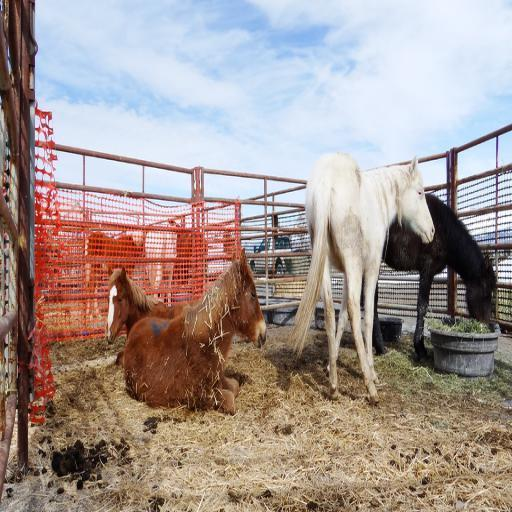horse: (284, 156, 437, 403), (124, 249, 267, 415), (362, 194, 498, 355), (106, 265, 194, 344)
